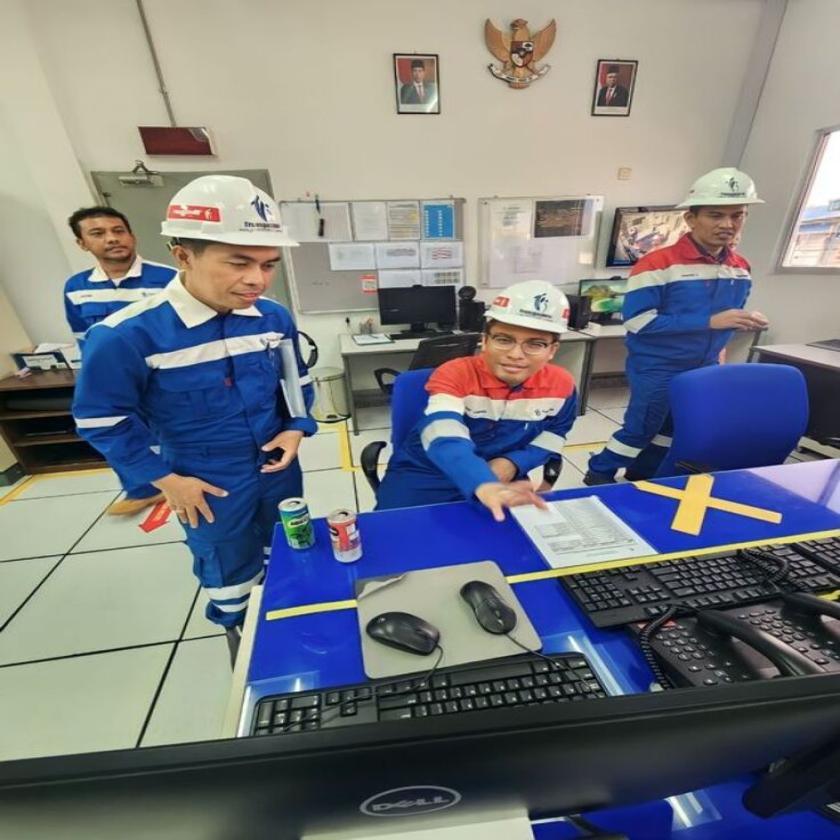Con_casco: (155, 171, 303, 312), (473, 278, 575, 392), (677, 168, 766, 258)
Sin_casco: (62, 203, 145, 275)
